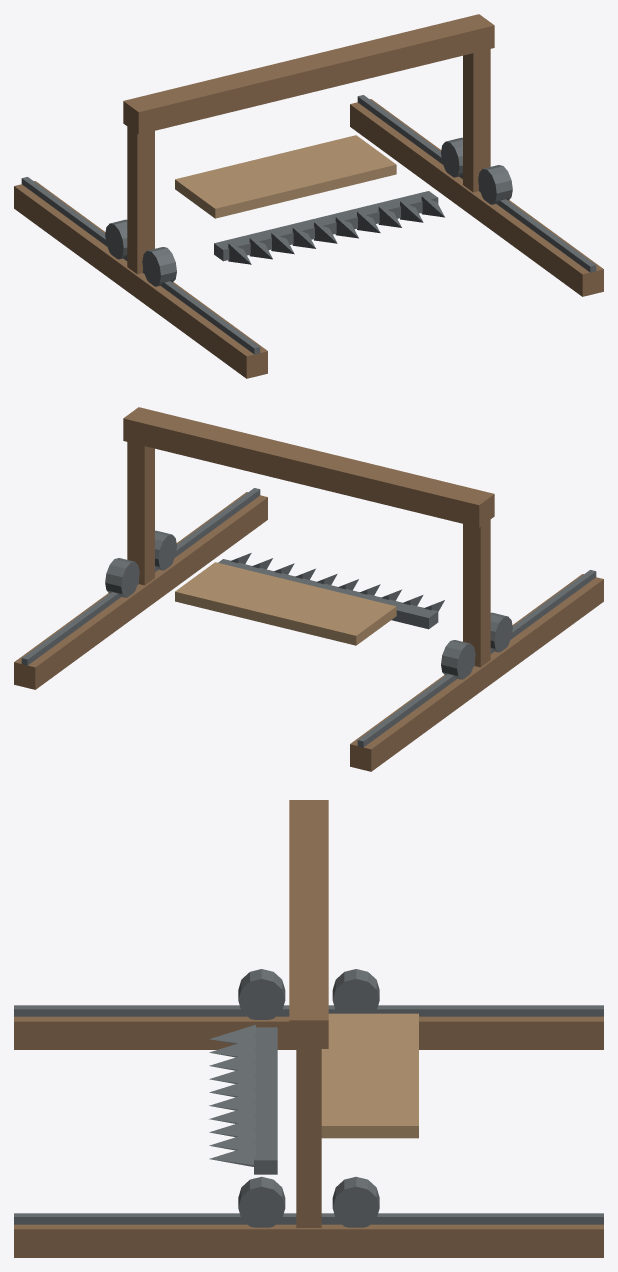
The model's file is vf_harvester.glb.
3 views of the same model, one above another, from view 1: azimuth 30°, elevation 25°; view 2: azimuth 150°, elevation 25°; view 3: azimuth 270°, elevation 25° (orthographic). The views are drawn at different scales.
Visible parts, largest first — view 1: Tool_Head_Oak, Static_Oak, Tool_Head_Iron, Tool_Head_OakLight, Static_Iron; view 2: Tool_Head_Oak, Static_Oak, Tool_Head_OakLight, Tool_Head_Iron, Static_Iron; view 3: Static_Oak, Tool_Head_Iron, Tool_Head_Oak, Tool_Head_OakLight, Static_Iron.
Boxes of the visible parts, x1=… form: Tool_Head_Oak: x1=123, y1=14, x2=494, y2=274; Static_Oak: x1=14, y1=99, x2=603, y2=378; Tool_Head_Iron: x1=105, y1=137, x2=512, y2=286; Tool_Head_OakLight: x1=175, y1=135, x2=396, y2=218; Static_Iron: x1=21, y1=95, x2=596, y2=354; Tool_Head_Oak: x1=123, y1=407, x2=494, y2=667; Static_Oak: x1=14, y1=492, x2=603, y2=771; Tool_Head_OakLight: x1=175, y1=562, x2=396, y2=645; Tool_Head_Iron: x1=105, y1=530, x2=512, y2=679; Static_Iron: x1=21, y1=488, x2=596, y2=747; Static_Oak: x1=14, y1=1016, x2=603, y2=1257; Tool_Head_Iron: x1=209, y1=969, x2=379, y2=1227; Tool_Head_Oak: x1=289, y1=800, x2=328, y2=1227; Tool_Head_OakLight: x1=321, y1=1013, x2=418, y2=1138; Static_Iron: x1=14, y1=1005, x2=603, y2=1224.
Bounding box in the file's own units: 2.66 × 1.33 × 3.
